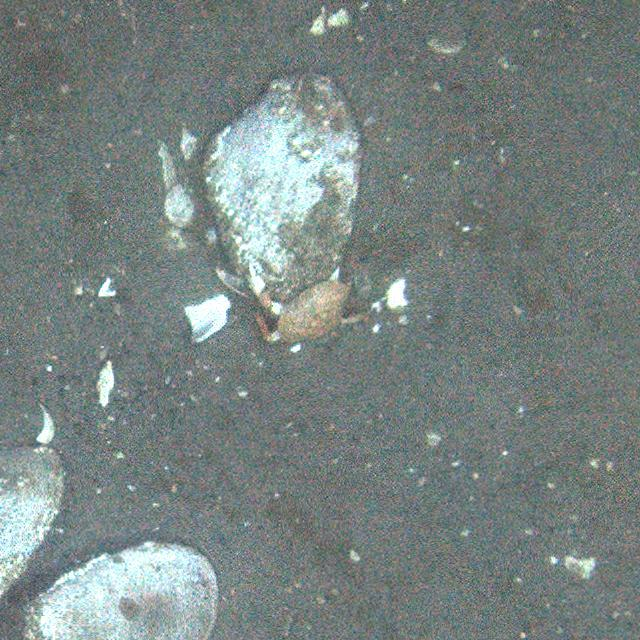crab: (258, 280, 373, 348)
